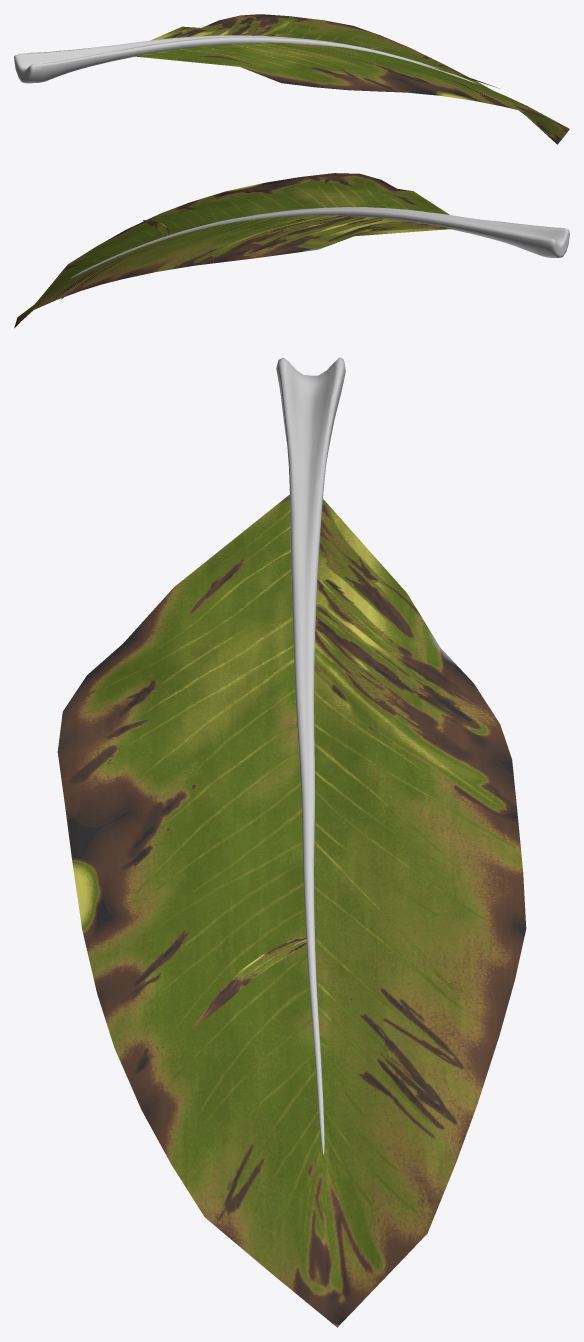
File: SM_Palm_Branch__Retopo_Cylinder_013.fbx
3 views of the same model, one above another, from view 1: azimuth 30°, elevation 25°; view 2: azimuth 150°, elevation 25°; view 3: azimuth 270°, elevation 25° (orthographic). The views are drawn at different scales.
Parts seen in each view (by area): view 1: SM_Palm_Branch__Retopo_Cylinder_013; view 2: SM_Palm_Branch__Retopo_Cylinder_013; view 3: SM_Palm_Branch__Retopo_Cylinder_013.
Boxes of the visible parts, <box> form: SM_Palm_Branch__Retopo_Cylinder_013: <box>14,14,569,144</box>; SM_Palm_Branch__Retopo_Cylinder_013: <box>14,173,569,328</box>; SM_Palm_Branch__Retopo_Cylinder_013: <box>57,357,526,1327</box>.
Bounding box in the file's own units: 393 × 147 × 154.
